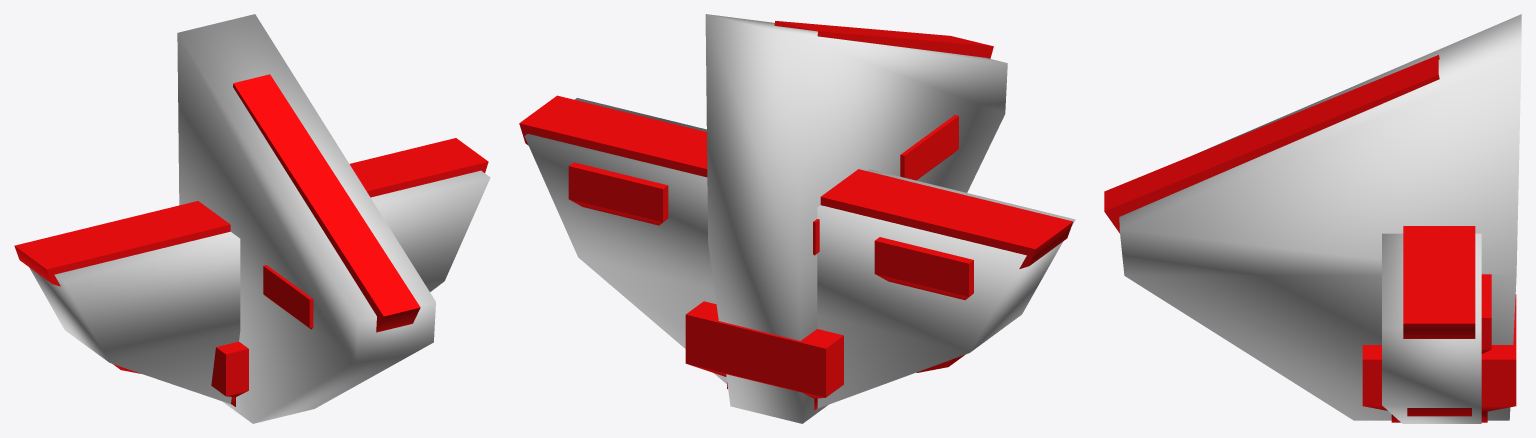
The model's file is Column_A_Kumimono_01.fbx.
3 views of the same model, side by side, from view 1: azimuth 30°, elevation 25°; view 2: azimuth 150°, elevation 25°; view 3: azimuth 270°, elevation 25° (orthographic). The views are drawn at different scales.
Visible parts, largest first — view 1: C_Column_A_Kumimono_01, Column_A_Kumimono_01; view 2: C_Column_A_Kumimono_01, Column_A_Kumimono_01; view 3: C_Column_A_Kumimono_01, Column_A_Kumimono_01.
Part boxes in pixels (x1=…): C_Column_A_Kumimono_01: x1=29, y1=14, x2=490, y2=423; Column_A_Kumimono_01: x1=14, y1=74, x2=488, y2=406; C_Column_A_Kumimono_01: x1=524, y1=14, x2=1075, y2=423; Column_A_Kumimono_01: x1=519, y1=21, x2=1073, y2=410; C_Column_A_Kumimono_01: x1=1119, y1=14, x2=1521, y2=423; Column_A_Kumimono_01: x1=1104, y1=55, x2=1516, y2=422.
Size of the model in its own units: 1.7 by 1.23 by 1.25.
